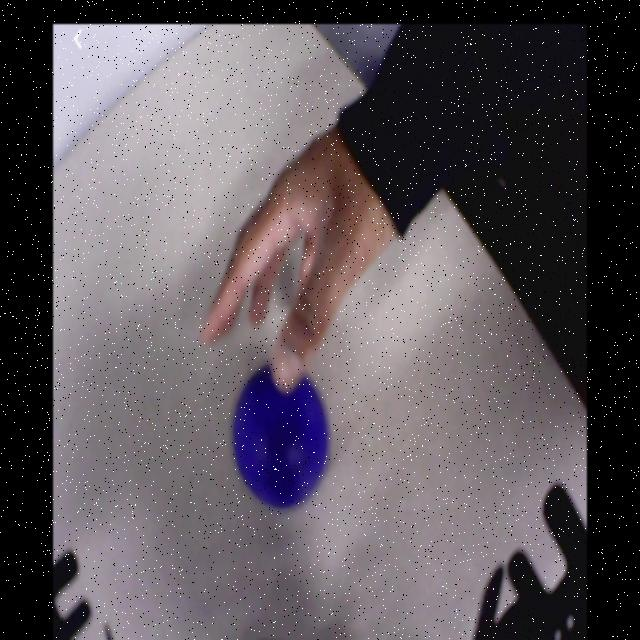ball: (235, 361, 331, 507)
